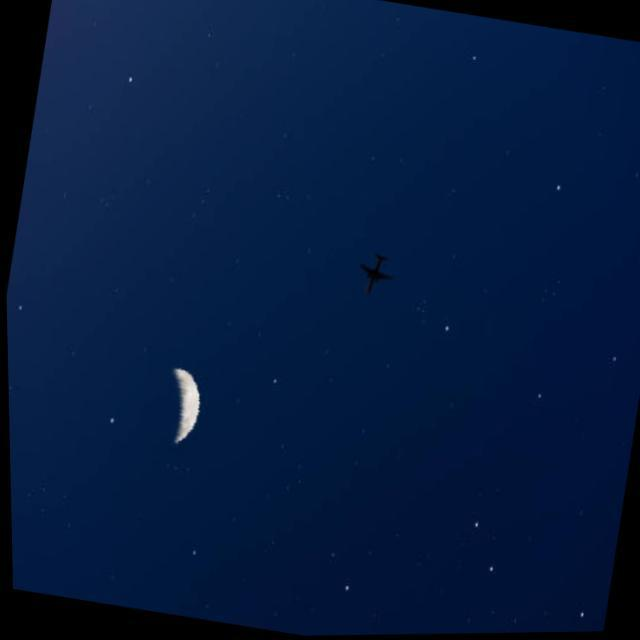moon: (130, 348, 228, 470)
